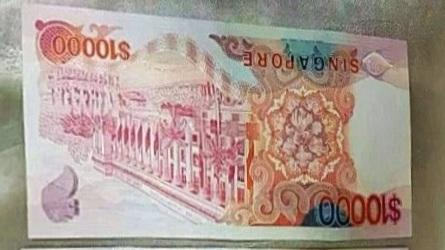10000SingaporeDollar: (28, 21, 407, 236)
